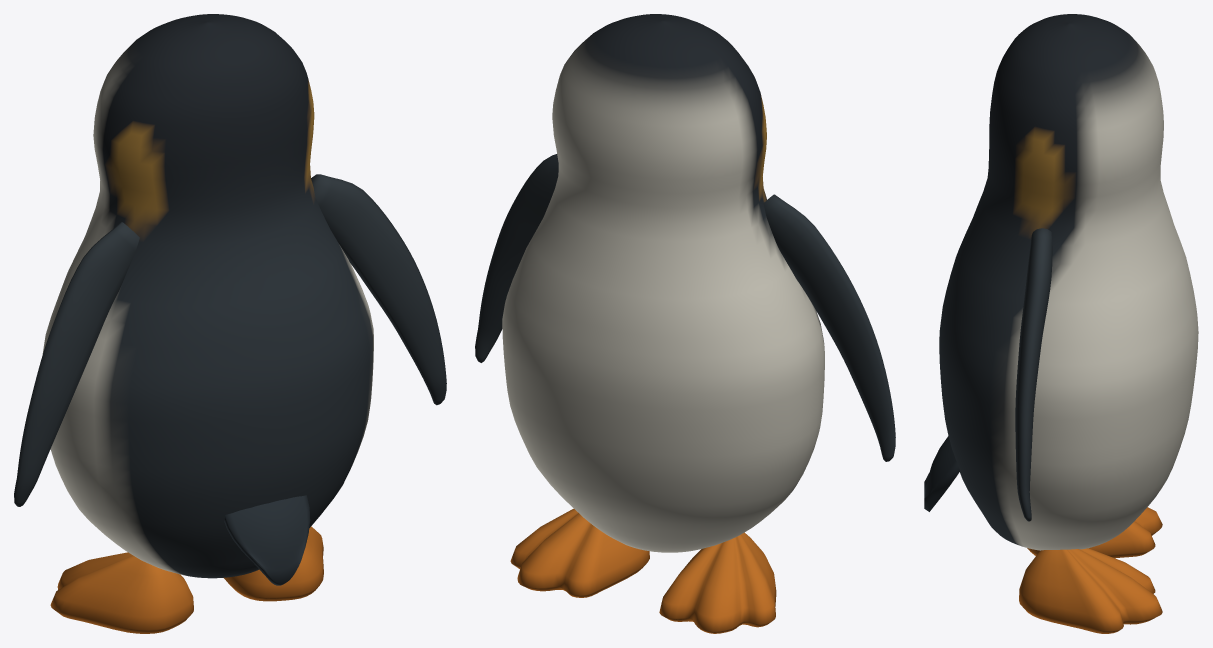
File: candidate.glb
3 views of the same model, side by side, from view 1: azimuth 30°, elevation 25°; view 2: azimuth 150°, elevation 25°; view 3: azimuth 270°, elevation 25° (orthographic). The views are drawn at different scales.
Parts seen in each view (by area): view 1: RearBlockout; view 2: RearBlockout; view 3: RearBlockout.
Part boxes in pixels (bbox=[...]): RearBlockout: bbox=[14, 14, 446, 633]; RearBlockout: bbox=[475, 14, 895, 633]; RearBlockout: bbox=[924, 14, 1198, 633].
Size of the model in its own units: 1.35 by 1.72 by 0.7723.
